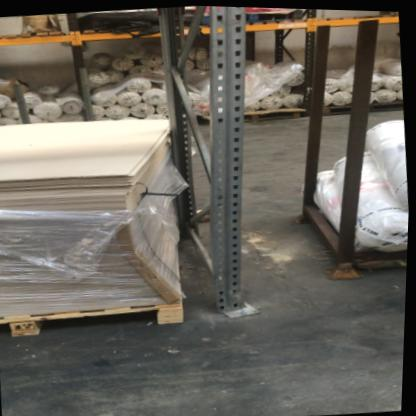vertical_damage: (210, 282, 267, 322)
